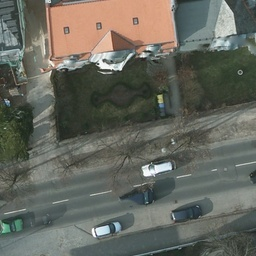car: (142, 155, 176, 178), (170, 204, 201, 226), (89, 221, 122, 238)
